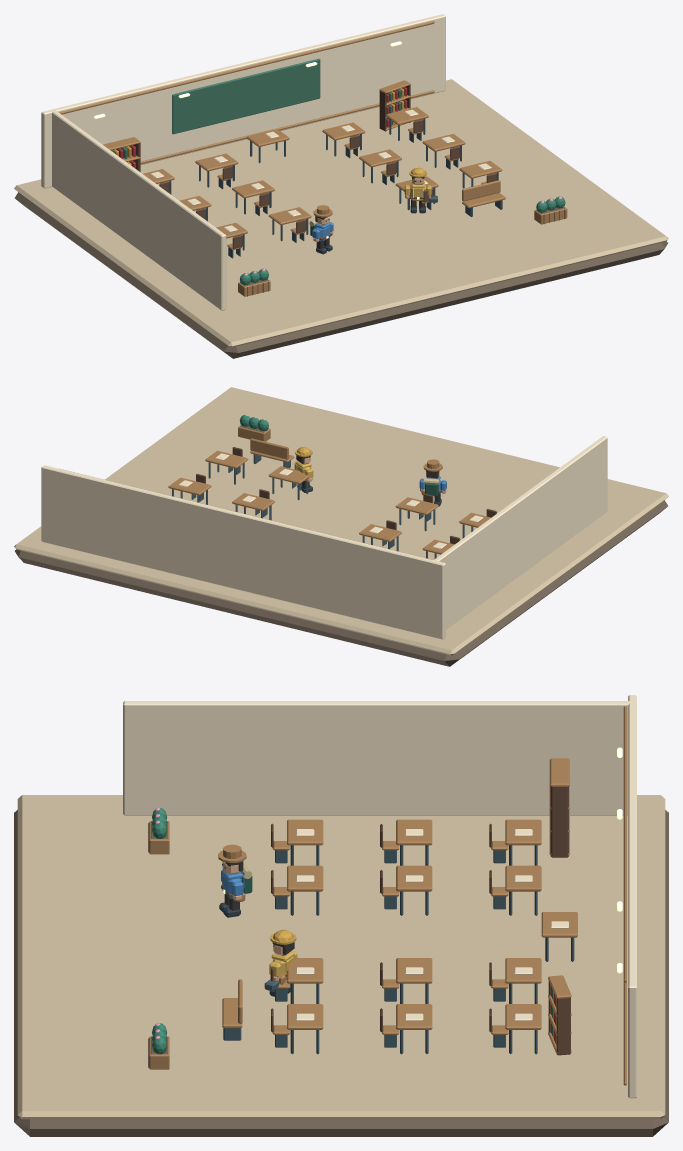
Rendered from world-school.glb.
3 renders of one model, top to bottom at view 1: azimuth 30°, elevation 25°; view 2: azimuth 150°, elevation 25°; view 3: azimuth 270°, elevation 25°, orthographic. The views are drawn at different scales.
Visible parts, largest first — view 1: terrain-top, rear-wall, side-wall, terrain-stratum, chalkboard, interior-trim.001, interior-trim, bench-back.001; view 2: terrain-top, rear-wall, side-wall, terrain-stratum, bench-back.001, desk-top.008, desk-top.004, desk-top.011, desk-top.005, desk-top.010; view 3: terrain-top, side-wall, terrain-stratum, rear-wall, shelf-side.003, interior-trim.001, desk-top.006, desk-top.005, desk-top.004, desk-top.003, desk-top.002, desk-top.001 (+8 smaller).
Boxes of the visible parts, x1,y1,x2,y2 form: terrain-top: (14,79,668,347); rear-wall: (41,14,445,188); side-wall: (52,110,226,310); terrain-stratum: (14,192,667,358); chalkboard: (172,58,320,134); interior-trim.001: (59,21,434,114); interior-trim: (140,90,434,164); bench-back.001: (462,180,500,201); terrain-top: (14,387,668,655); rear-wall: (41,465,445,639); side-wall: (433,436,607,629); terrain-stratum: (15,500,667,666); bench-back.001: (250,438,288,459); desk-top.008: (232,493,274,511); desk-top.004: (395,497,438,515); desk-top.011: (168,477,211,495); desk-top.005: (359,524,401,541); desk-top.010: (205,450,248,468); terrain-top: (17,795,665,1119); side-wall: (123,701,630,815); terrain-stratum: (14,810,668,1136); rear-wall: (628,695,636,1098); shelf-side.003: (550,786,568,857); interior-trim.001: (623,706,626,982); desk-top.006: (505,865,541,891); desk-top.005: (396,865,432,891); desk-top.004: (287,865,323,891); desk-top.003: (505,819,541,845); desk-top.002: (396,819,432,845); desk-top.001: (287,819,323,845).
Bounding box in the file's own units: 21 × 4.29 × 18.
